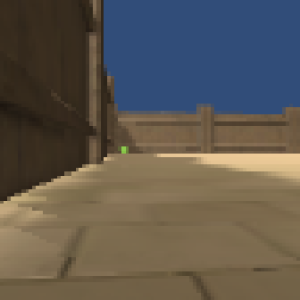goodGoal: (118, 143, 131, 155)
